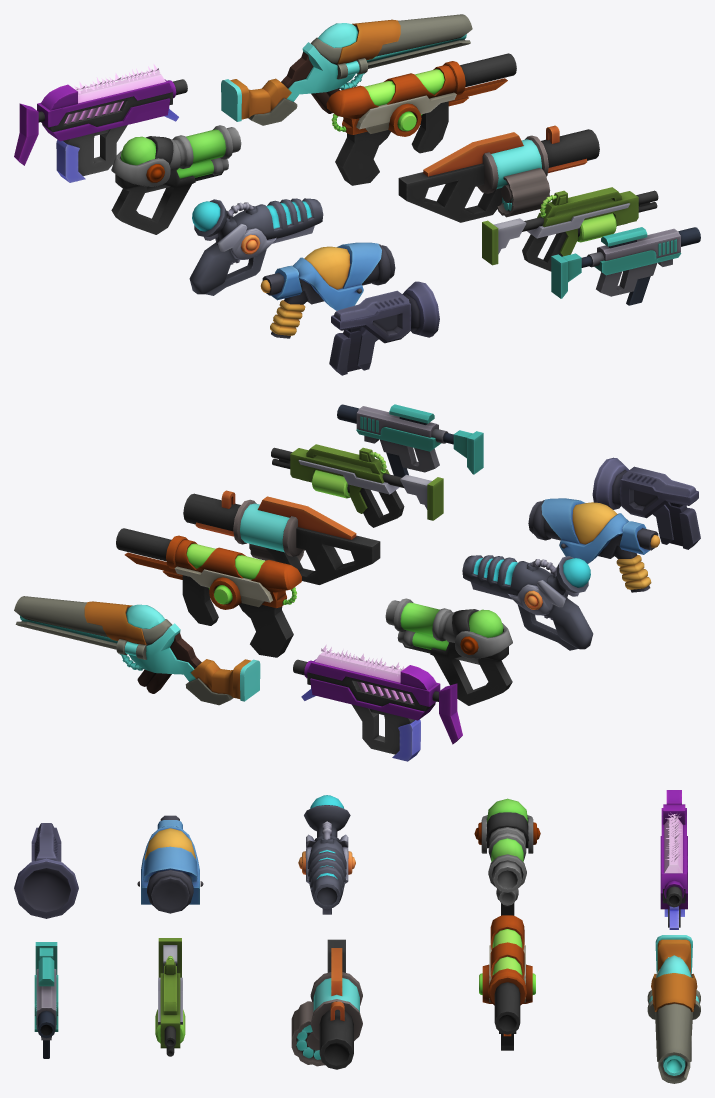
File: VIASS_Colections_Gun_demo.FBX
3 renders of one model, top to bottom at view 1: azimuth 30°, elevation 25°; view 2: azimuth 150°, elevation 25°; view 3: azimuth 270°, elevation 25°, orthographic. The views are drawn at different scales.
Visible parts, largest first — view 1: Gun_05_R, Gun_04_R, Gun_03_R, Gun_05_H, Gun_04_H, Gun_03_H, Gun_02_R, Gun_02_H, Gun_01_R, Gun_01_H; view 2: Gun_05_R, Gun_04_R, Gun_03_R, Gun_05_H, Gun_04_H, Gun_03_H, Gun_02_R, Gun_02_H, Gun_01_R, Gun_01_H; view 3: Gun_03_R, Gun_05_R, Gun_04_R, Gun_02_H, Gun_04_H, Gun_03_H, Gun_01_H, Gun_05_H, Gun_02_R, Gun_01_R.
Part boxes in pixels (x1,y1,x2,y2): Gun_05_R: (221,14,472,125); Gun_04_R: (326,53,516,185); Gun_03_R: (398,125,599,222); Gun_05_H: (14,72,187,182); Gun_04_H: (111,125,241,234); Gun_03_H: (189,198,323,295); Gun_02_R: (482,187,658,271); Gun_02_H: (260,242,395,338); Gun_01_R: (551,227,700,305); Gun_01_H: (329,281,439,375); Gun_05_R: (14,596,260,705); Gun_04_R: (116,528,301,657); Gun_03_R: (183,490,380,584); Gun_05_H: (293,652,462,761); Gun_04_H: (385,598,512,705); Gun_03_H: (462,555,593,650); Gun_02_R: (271,444,443,527); Gun_02_H: (528,498,660,592); Gun_01_R: (337,404,483,477); Gun_01_H: (592,457,700,549); Gun_03_R: (291,939,362,1069); Gun_05_R: (647,935,700,1083); Gun_04_R: (479,915,535,1050); Gun_02_H: (137,815,203,913); Gun_04_H: (474,798,540,915); Gun_03_H: (298,795,355,914); Gun_01_H: (14,823,78,918); Gun_05_H: (660,790,687,929); Gun_02_R: (155,938,185,1056); Gun_01_R: (34,942,58,1058).
Bounding box in the file's own units: 269 × 55.95 × 317.
